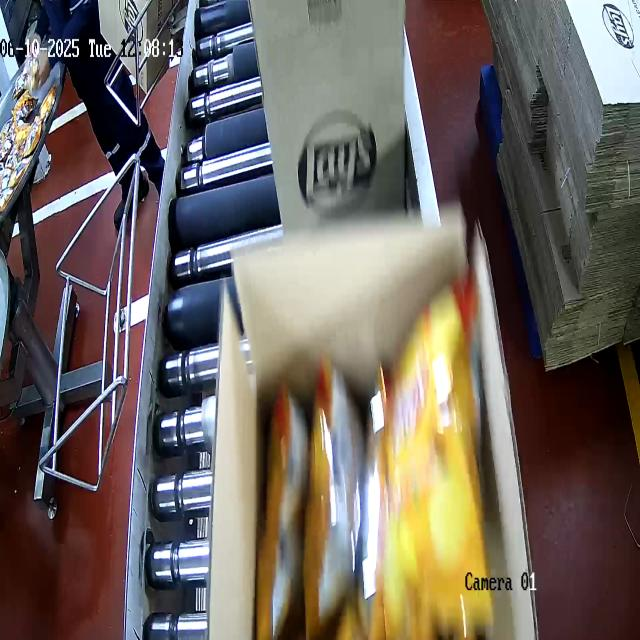FRENCH_CHEESE: (265, 348, 487, 640)
